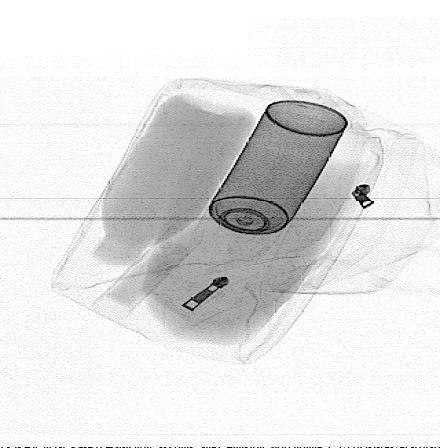Sprayer: (188, 101, 351, 258)
